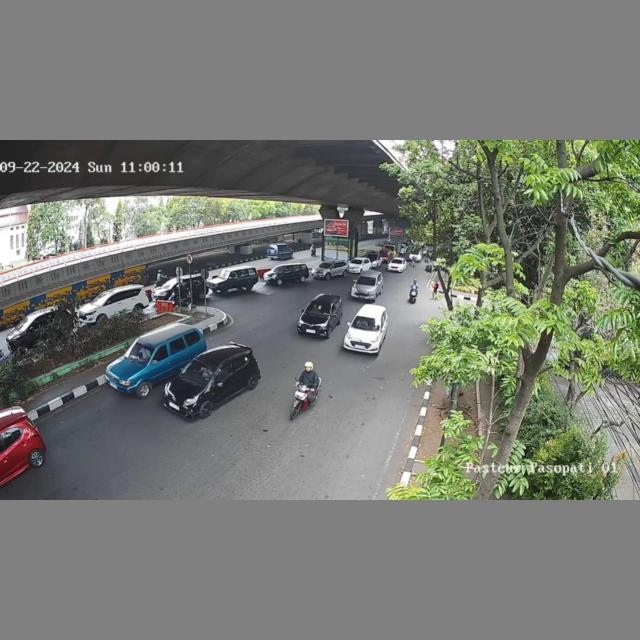windshield: (182, 359, 217, 384), (126, 341, 155, 364), (352, 315, 382, 330), (304, 300, 333, 314), (356, 277, 376, 286)
